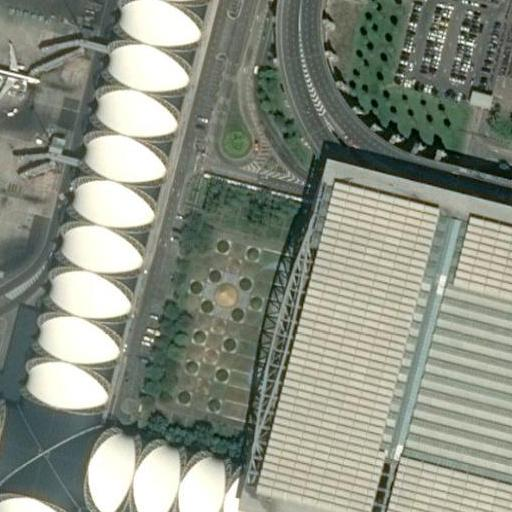Aircraft: (0, 42, 40, 99)
